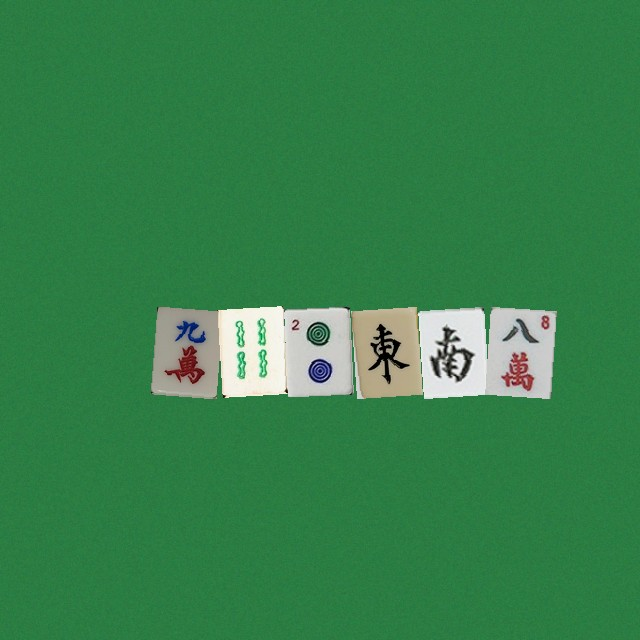tile: (150, 306, 216, 394), (217, 306, 283, 394), (284, 306, 350, 394), (351, 306, 417, 394), (418, 306, 484, 394), (485, 306, 551, 394)
